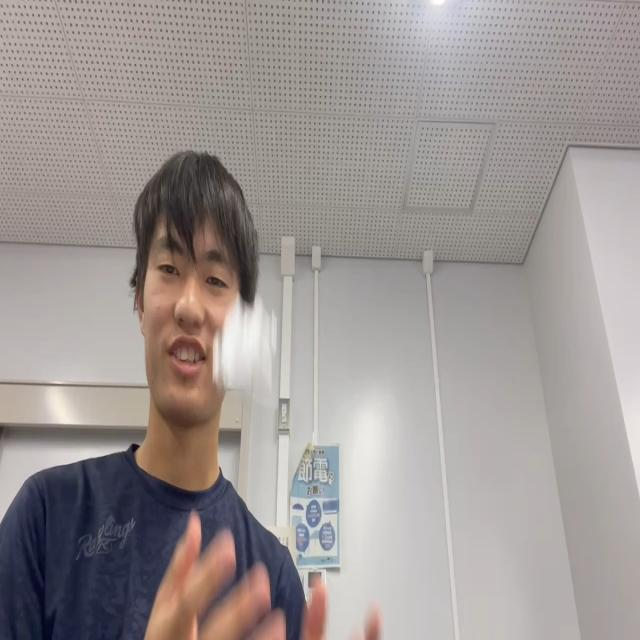paper: (211, 292, 278, 407)
